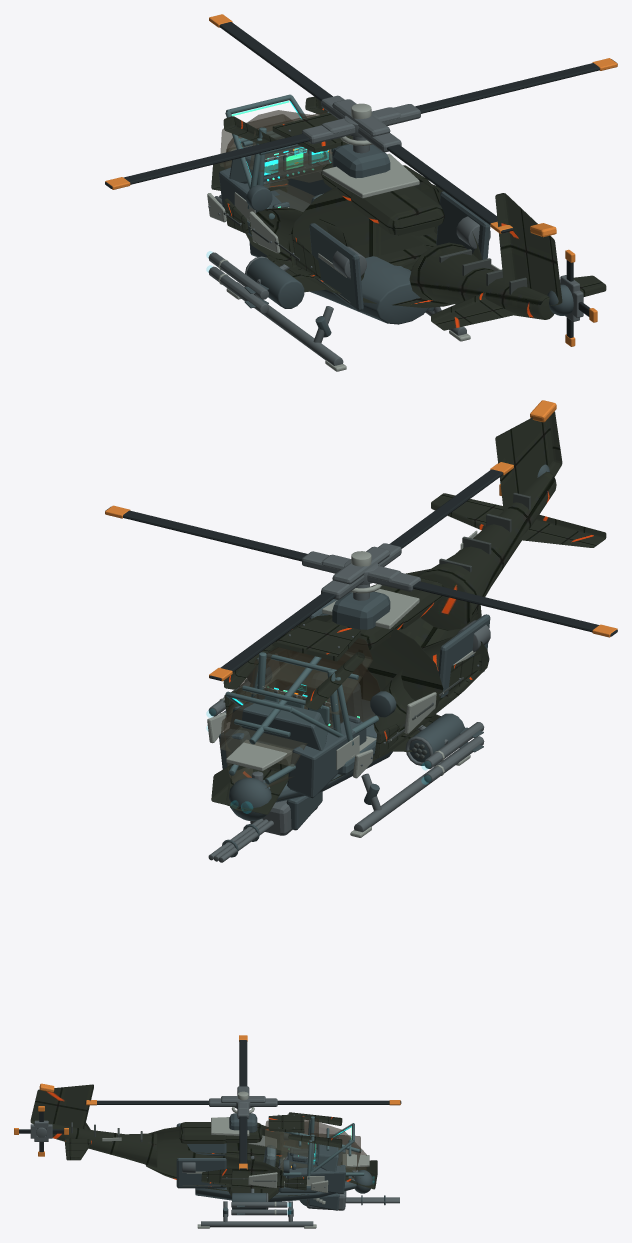
The model's file is pass65-chopper-gunner-lod0.glb.
3 views of the same model, one above another, from view 1: azimuth 30°, elevation 25°; view 2: azimuth 150°, elevation 25°; view 3: azimuth 270°, elevation 25° (orthographic). The views are drawn at different scales.
Parts seen in each view (by area): view 1: Chopper_TailBoom_LOD0, Chopper_RearCabin_LOD0, Chopper_TailFin_LOD0, Chopper_VentralKeel_LOD0, Chopper_RearEngineCowling_LOD0, Chopper_MainBlade_2_LOD0, Chopper_MainBlade_1_LOD0, Chopper_MainBlade_3_LOD0, Chopper_RearArmorDoor_-1_LOD0, Chopper_TandemPilotCanopy_LOD0, Chopper_DorsalArmorPanel_LOD0, Chopper_EnginePod_-1_LOD0 (+25 smaller); view 2: Chopper_TailBoom_LOD0, Chopper_TaperedFuselage_LOD0, Chopper_CanopyGlass_LOD0, Chopper_TailFin_LOD0, Chopper_TandemPilotCanopy_LOD0, Chopper_MainBlade_3_LOD0, Chopper_Dashboard_LOD0, Chopper_MainBlade_0_LOD0, Chopper_CheekArmor_-1_LOD0, Chopper_TandemGunnerCanopy_LOD0, Chopper_CanopyRoofArmor_LOD0, Chopper_EnginePod_-1_LOD0 (+17 smaller); view 3: Chopper_TailBoom_LOD0, Chopper_TailFin_LOD0, Chopper_RearCabin_LOD0, Chopper_RearArmorDoor_1_LOD0, Chopper_EnginePod_1_LOD0, Chopper_CanopyGlass_LOD0, Chopper_TandemPilotCanopy_LOD0, Chopper_MainBlade_2_LOD0, Chopper_VentralKeel_LOD0, Chopper_RearEngineCowling_LOD0, Chopper_Skid_1_LOD0, Chopper_MainBlade_1_LOD0 (+26 smaller).
Part boxes in pixels (x1=…): Chopper_TailBoom_LOD0: x1=409, y1=242, x2=553, y2=319; Chopper_RearCabin_LOD0: x1=287, y1=176, x2=481, y2=307; Chopper_TailFin_LOD0: x1=495, y1=193, x2=562, y2=306; Chopper_VentralKeel_LOD0: x1=264, y1=185, x2=429, y2=324; Chopper_RearEngineCowling_LOD0: x1=351, y1=186, x2=444, y2=235; Chopper_MainBlade_2_LOD0: x1=219, y1=22, x2=511, y2=232; Chopper_MainBlade_1_LOD0: x1=105, y1=63, x2=596, y2=188; Chopper_MainBlade_3_LOD0: x1=105, y1=59, x2=617, y2=187; Chopper_RearArmorDoor_-1_LOD0: x1=309, y1=223, x2=363, y2=311; Chopper_TandemPilotCanopy_LOD0: x1=249, y1=111, x2=332, y2=182; Chopper_DorsalArmorPanel_LOD0: x1=322, y1=153, x2=419, y2=198; Chopper_EnginePod_-1_LOD0: x1=249, y1=207, x2=364, y2=293; Chopper_TailBoom_LOD0: x1=419, y1=471, x2=556, y2=630; Chopper_TaperedFuselage_LOD0: x1=226, y1=615, x2=443, y2=811; Chopper_CanopyGlass_LOD0: x1=224, y1=649, x2=380, y2=787; Chopper_TailFin_LOD0: x1=495, y1=411, x2=562, y2=511; Chopper_TandemPilotCanopy_LOD0: x1=250, y1=638, x2=372, y2=714; Chopper_MainBlade_3_LOD0: x1=109, y1=507, x2=617, y2=636; Chopper_Dashboard_LOD0: x1=230, y1=699, x2=327, y2=750; Chopper_MainBlade_0_LOD0: x1=209, y1=469, x2=503, y2=680; Chopper_CheekArmor_-1_LOD0: x1=287, y1=721, x2=366, y2=798; Chopper_TandemGunnerCanopy_LOD0: x1=220, y1=679, x2=326, y2=766; Chopper_CanopyRoofArmor_LOD0: x1=272, y1=619, x2=360, y2=661; Chopper_EnginePod_-1_LOD0: x1=373, y1=636, x2=489, y2=736; Chopper_TailBoom_LOD0: x1=48, y1=1123, x2=157, y2=1167; Chopper_TailFin_LOD0: x1=30, y1=1084, x2=93, y2=1129; Chopper_RearCabin_LOD0: x1=146, y1=1126, x2=239, y2=1191; Chopper_RearArmorDoor_1_LOD0: x1=176, y1=1158, x2=226, y2=1188; Chopper_EnginePod_1_LOD0: x1=193, y1=1156, x2=284, y2=1189; Chopper_CanopyGlass_LOD0: x1=280, y1=1121, x2=366, y2=1179; Chopper_TandemPilotCanopy_LOD0: x1=265, y1=1118, x2=318, y2=1158; Chopper_MainBlade_2_LOD0: x1=85, y1=1100, x2=400, y2=1104; Chopper_VentralKeel_LOD0: x1=195, y1=1176, x2=356, y2=1201; Chopper_RearEngineCowling_LOD0: x1=179, y1=1122, x2=226, y2=1143; Chopper_Skid_1_LOD0: x1=201, y1=1221, x2=313, y2=1227; Chopper_MainBlade_1_LOD0: x1=239, y1=1040, x2=247, y2=1169.
Bounding box in the file's own units: 7.45 × 3.28 × 14.25.
Materials: 19 (1 with a texture image).
